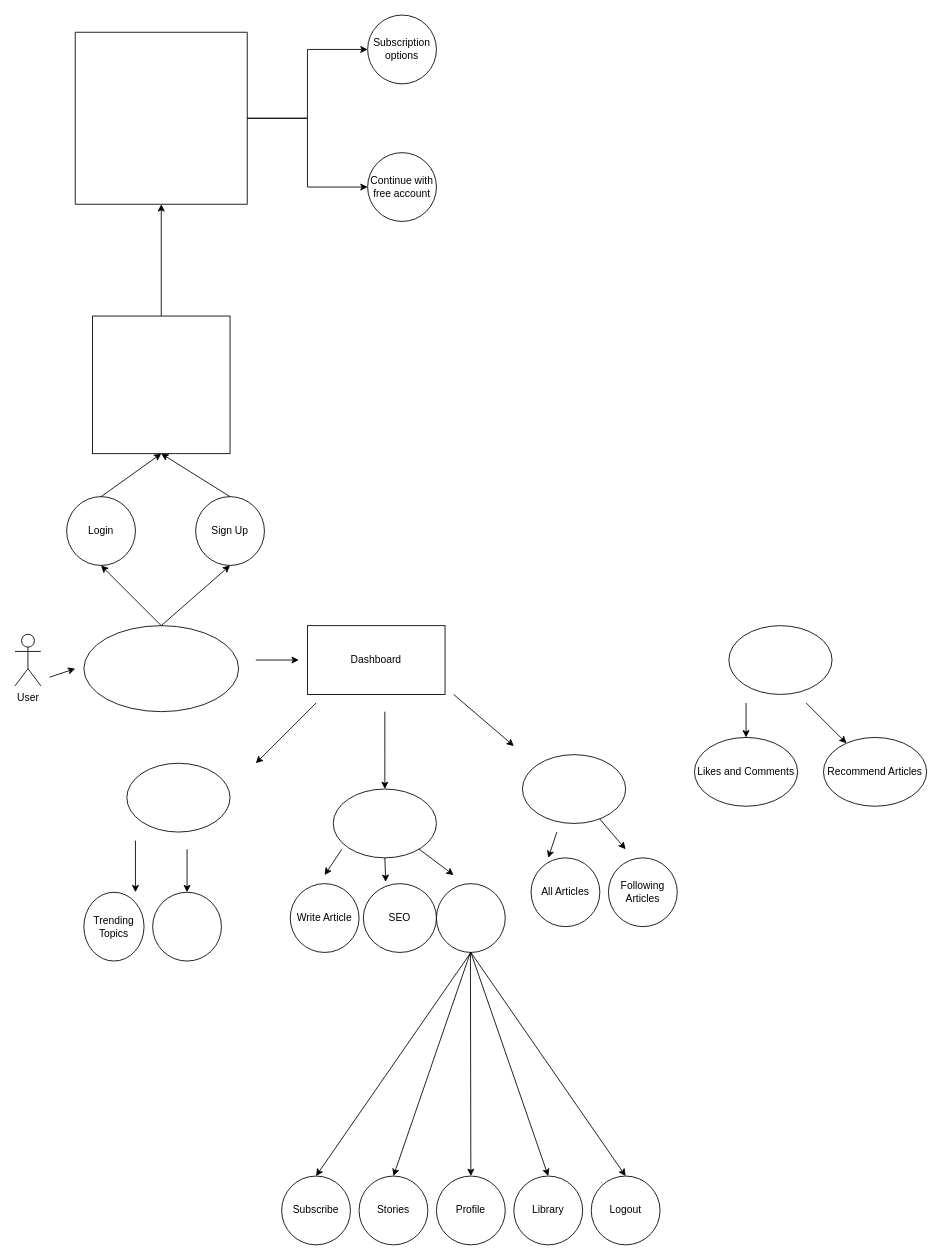
This 942x1260 diagram has some shape labels left out. Here are the shapes that lost their labels. From the top down, the centre of each, then its label:
At (160,117): "Welcome Dashboard".
At (161,384): "Interested Options Dashboard".
At (161,668): "Login and SignUp".
At (780,659): "Article".
At (178,797): "Right Side Bar".
At (574,788): "Feed".
At (384,823): "NavBar".
At (186,926): "Saved Articles".
At (470,917): "Settings".
